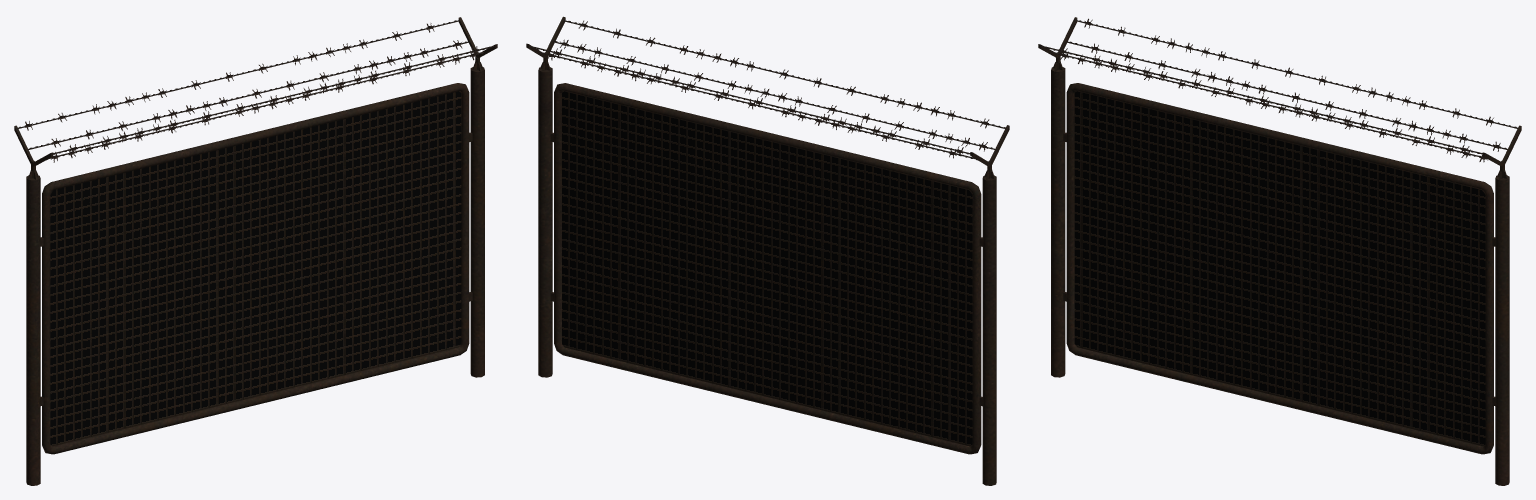
Rendered from fence_e_2.obj.
3 renders of one model, left to right at view 1: azimuth 30°, elevation 25°; view 2: azimuth 150°, elevation 25°; view 3: azimuth 330°, elevation 25°, orthographic.
Visible parts, largest first — view 1: fence_e_2; view 2: fence_e_2; view 3: fence_e_2.
Part boxes in pixels (box(x1,y1,x2,y2)): fence_e_2: box(14, 17, 497, 485); fence_e_2: box(526, 16, 1009, 485); fence_e_2: box(1038, 17, 1521, 485).
Size of the model in its own units: 3.6 by 2.61 by 0.5551.
